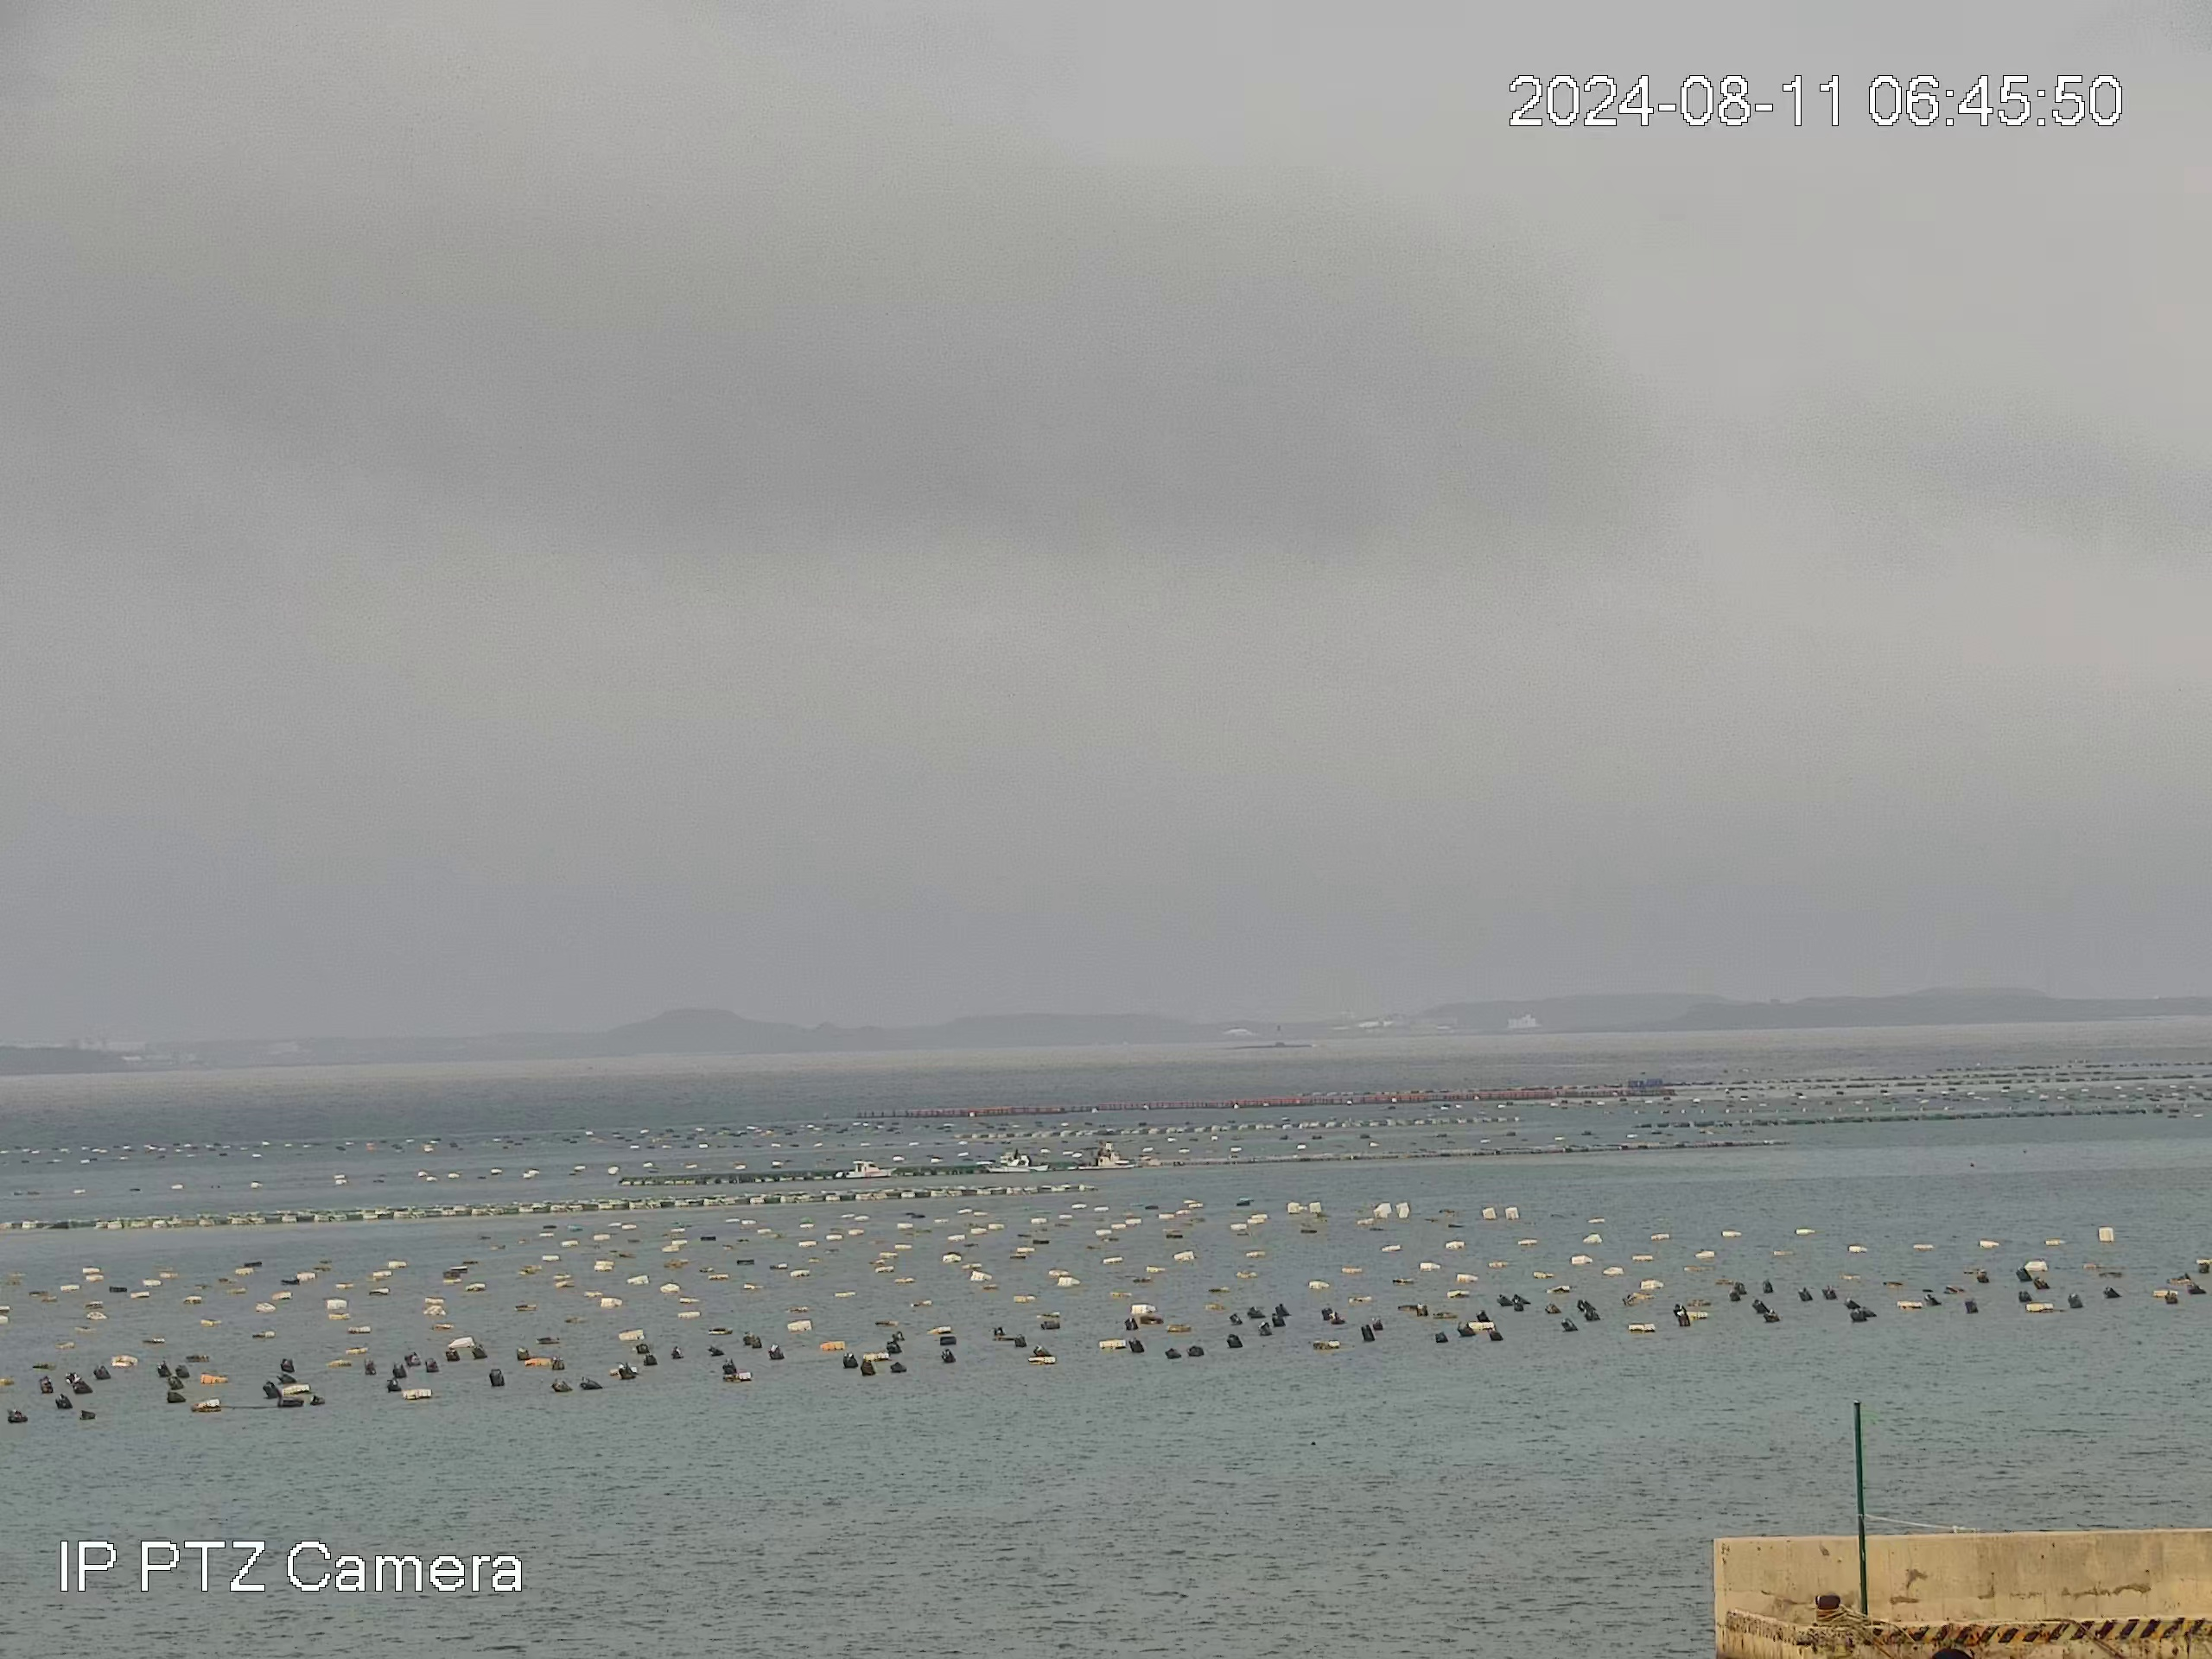boat: (975, 1150, 1050, 1175), (831, 1157, 897, 1180), (1064, 1155, 1115, 1171)
